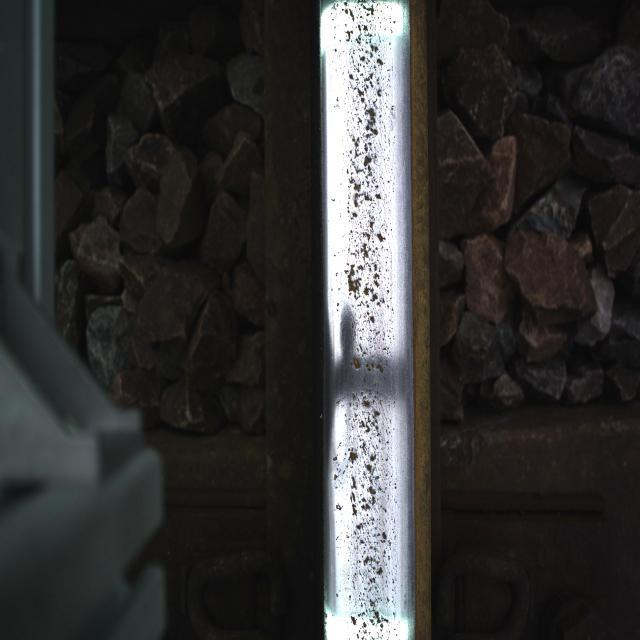scar: (323, 13, 412, 638)
